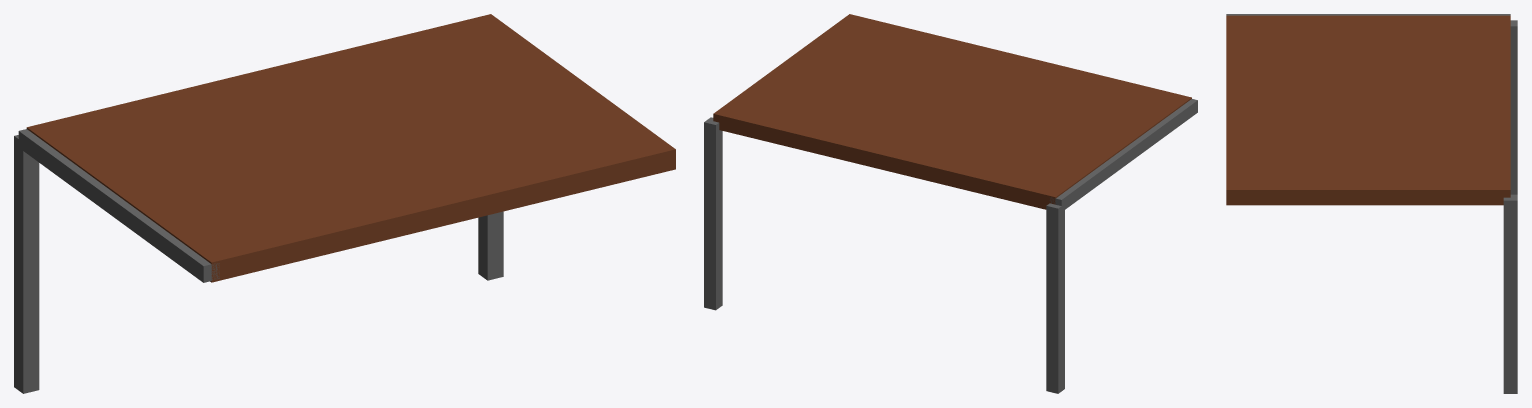
File: VPT4.fbx
The picture shows the model from 3 angles, left to right: view 1: azimuth 30°, elevation 25°; view 2: azimuth 150°, elevation 25°; view 3: azimuth 270°, elevation 25°; orthographic projection. The views are drawn at different scales.
Visible parts, largest first — view 1: Cube.013, Cube.027, Cube.015, Cube.029, Cube.030; view 2: Cube.027, Cube.013, Cube.030, Cube.015, Cube.029; view 3: Cube.013, Cube.027, Cube.030, Cube.015, Cube.029.
Part boxes in pixels (<box>): Cube.013: <box>119,81,675,282</box>; Cube.027: <box>26,14,582,195</box>; Cube.015: <box>14,135,39,393</box>; Cube.029: <box>18,129,219,282</box>; Cube.030: <box>478,211,503,280</box>; Cube.027: <box>713,64,1123,209</box>; Cube.013: <box>782,14,1191,148</box>; Cube.030: <box>704,117,722,310</box>; Cube.015: <box>1046,203,1064,393</box>; Cube.029: <box>1049,99,1197,211</box>; Cube.013: <box>1226,15,1368,205</box>; Cube.027: <box>1368,15,1510,205</box>; Cube.030: <box>1503,194,1517,393</box>; Cube.015: <box>1510,20,1517,194</box>; Cube.029: <box>1226,14,1510,15</box>.
Bounding box in the file's own units: 300 × 156 × 205.
